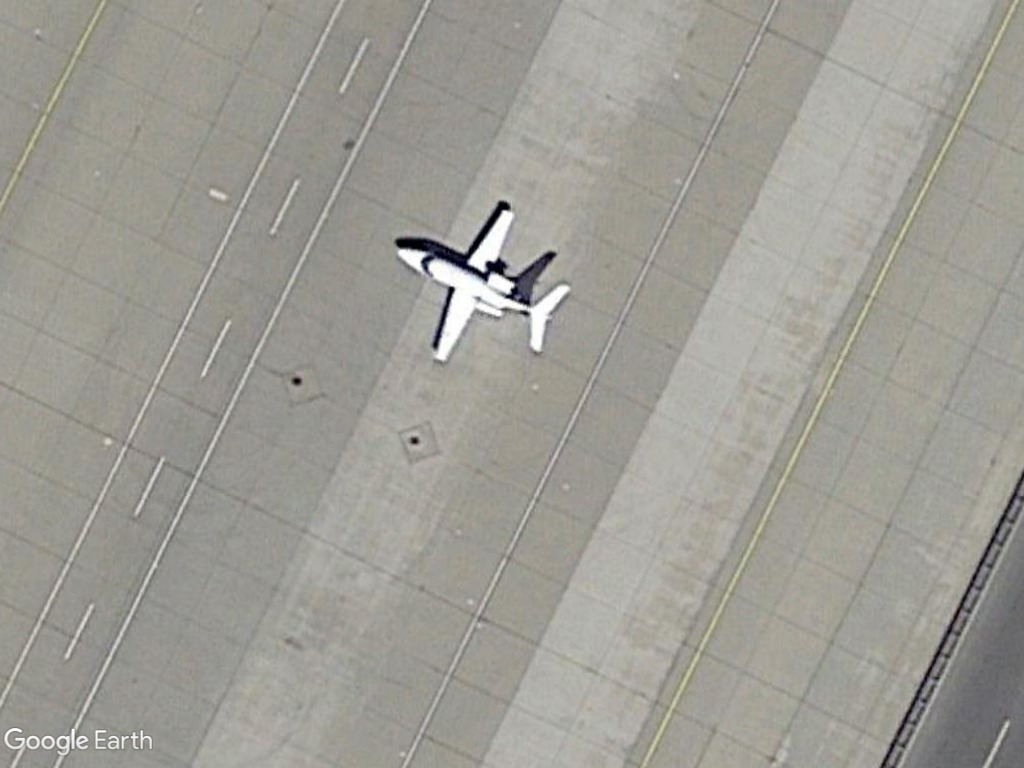chartered: (390, 198, 574, 370)
